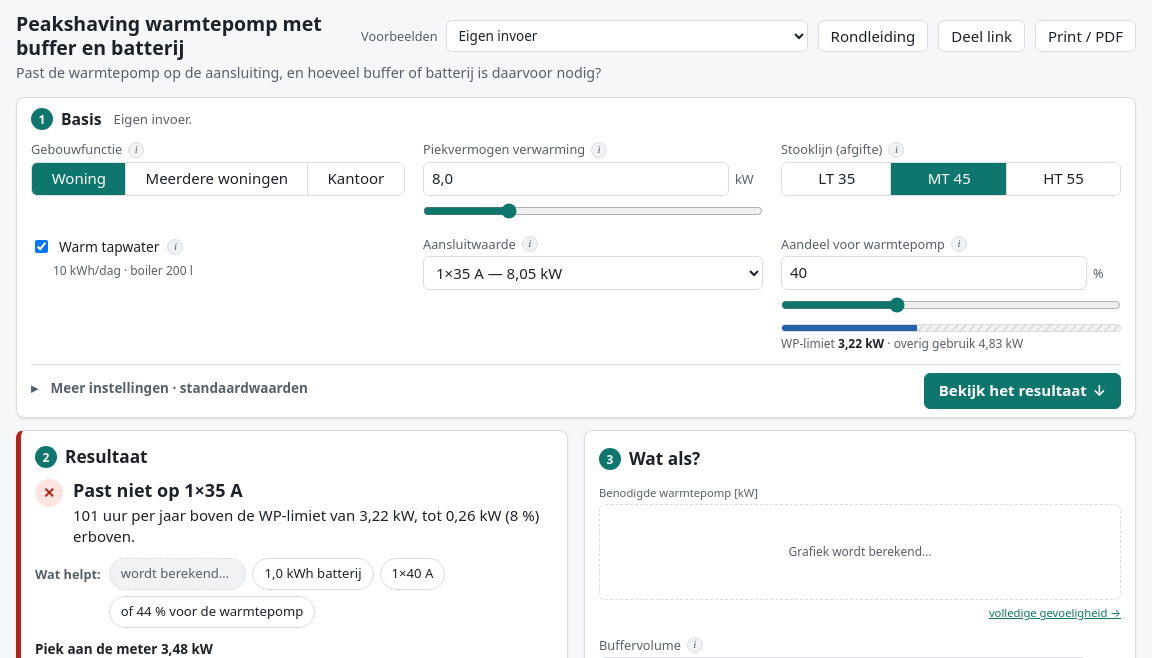
Test case: invoerblok Gebouw: meerdere woningen › drie keuzes; Meerdere woningen geeft 10 woningen, 50 kW en de waarden per woning
Expected: the field labelled "Aantal woningen" is not shown
Step 1. Click the button "Meerdere woningen" → coordinates (216, 178), box [125, 162, 308, 195]
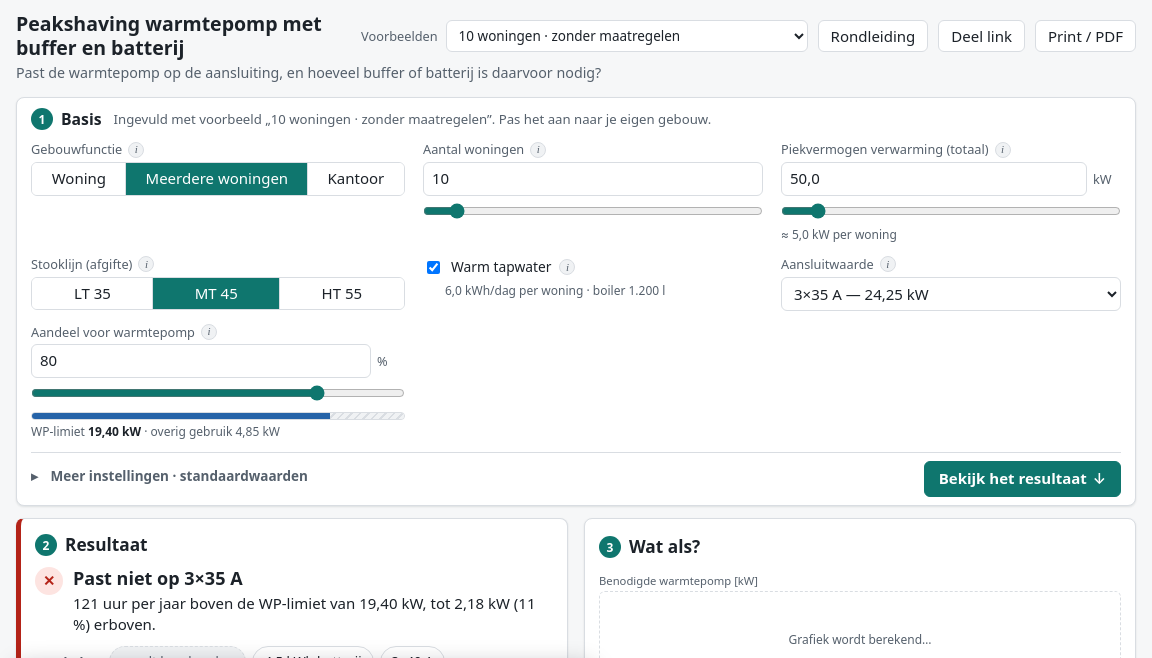
Result: the field labelled "Aantal woningen" holds "10" at [423, 162, 763, 196]
Result: the field labelled "Piekvermogen verwarming (totaal)" holds "50,0" at [781, 162, 1087, 196]
